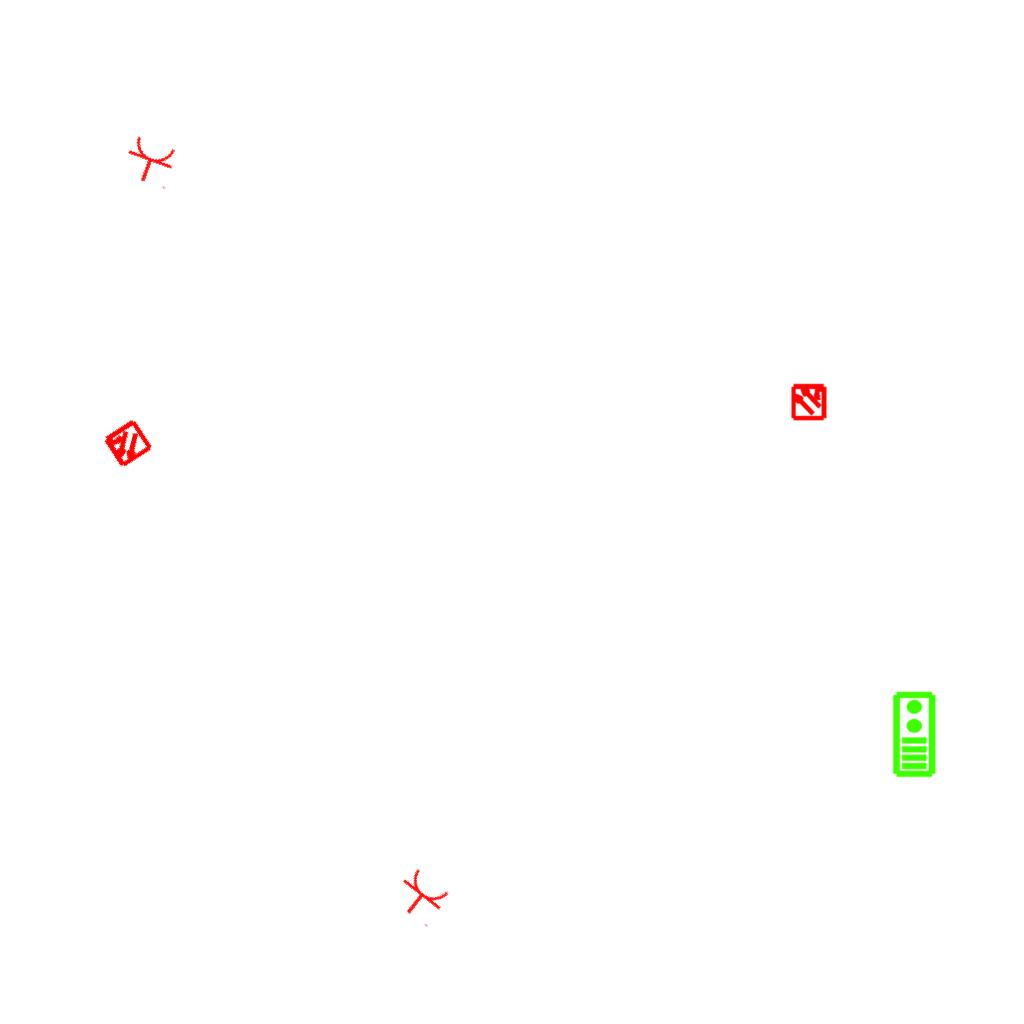Gegensprechanlage_mit_Video: (890, 690, 937, 778)
OT_Multisensormelder_(Kombination_RMO_WMD): (88, 405, 166, 483), (780, 372, 838, 430)
Schukosteckdose_einfach: (388, 864, 455, 930), (119, 133, 182, 191)
